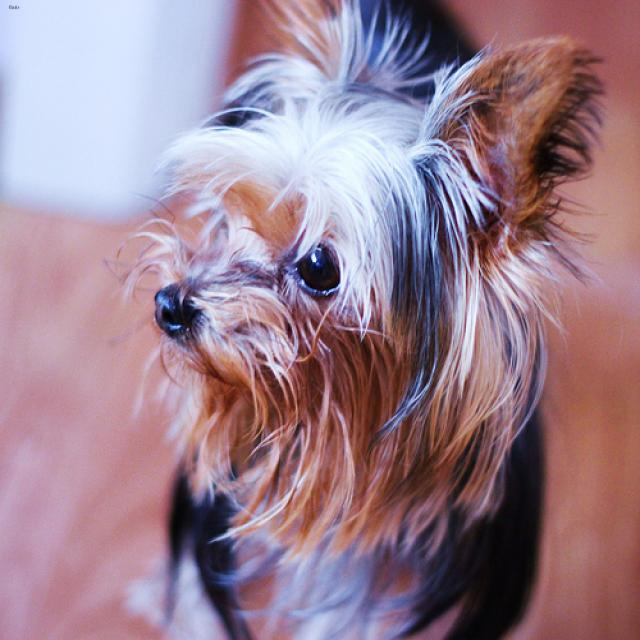dog-yorkshire_terrier: (92, 1, 618, 637)
